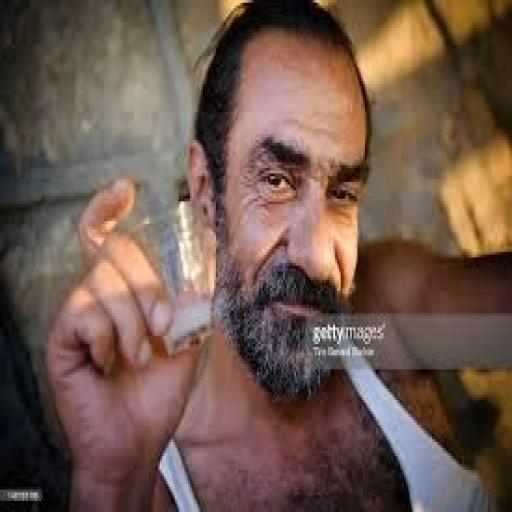drinking: (127, 193, 216, 355)
